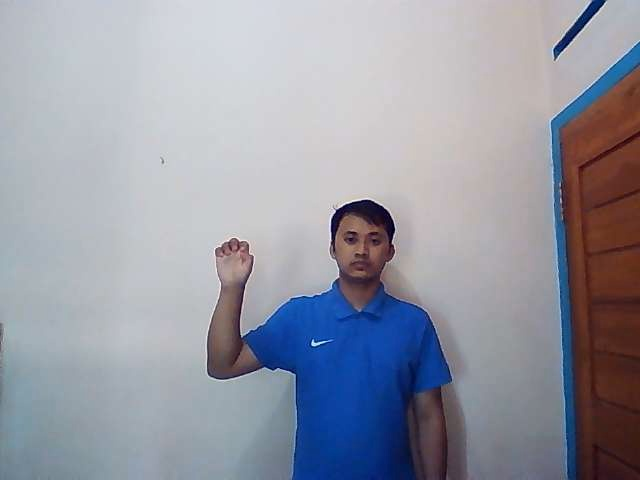E: (214, 237, 255, 287)
